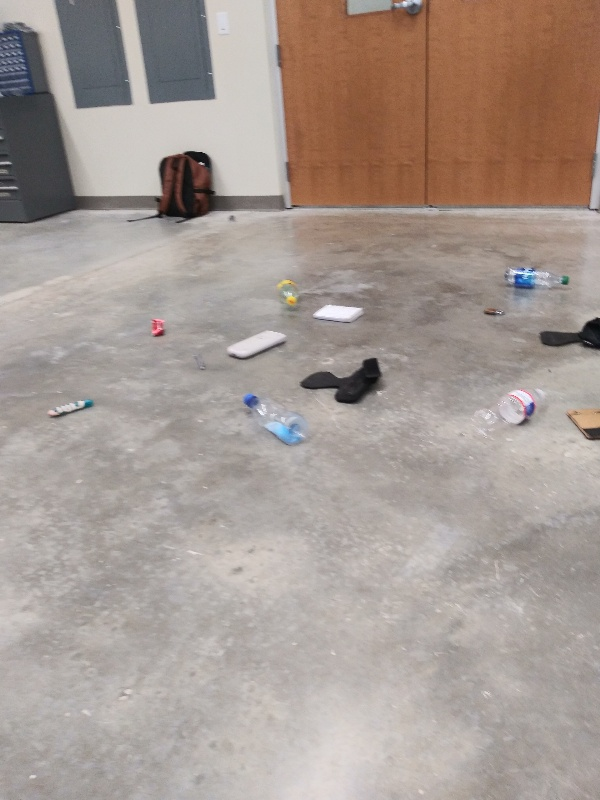bottle: (468, 383, 554, 446), (241, 388, 308, 446), (501, 263, 577, 292), (271, 274, 303, 311)
